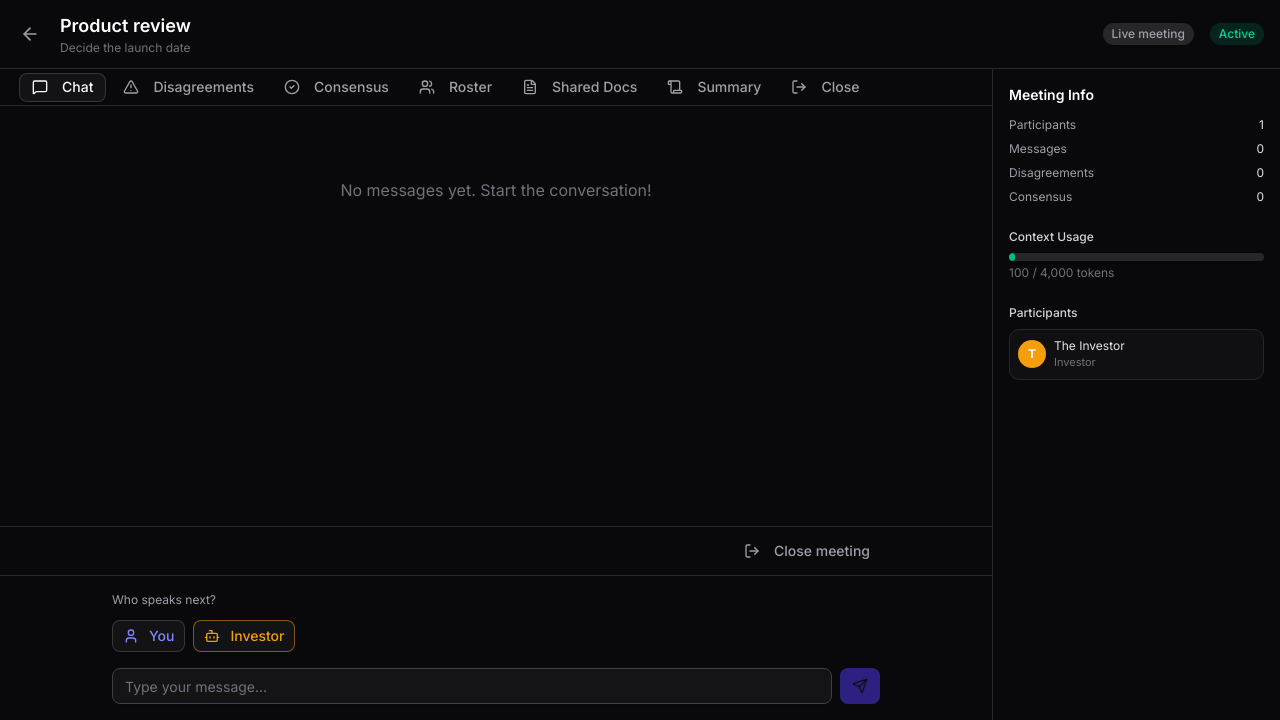
Test: MeetingRoom closing workflow › keeps a rejected close visible while returning the room to active work
This screenshot has width=1280, height=720.
expect the field with placeholder "Type your message..." is shown: met, box [112,668,832,704]
Click the button "Close meeting" at (807, 551), box [734,535,880,567]
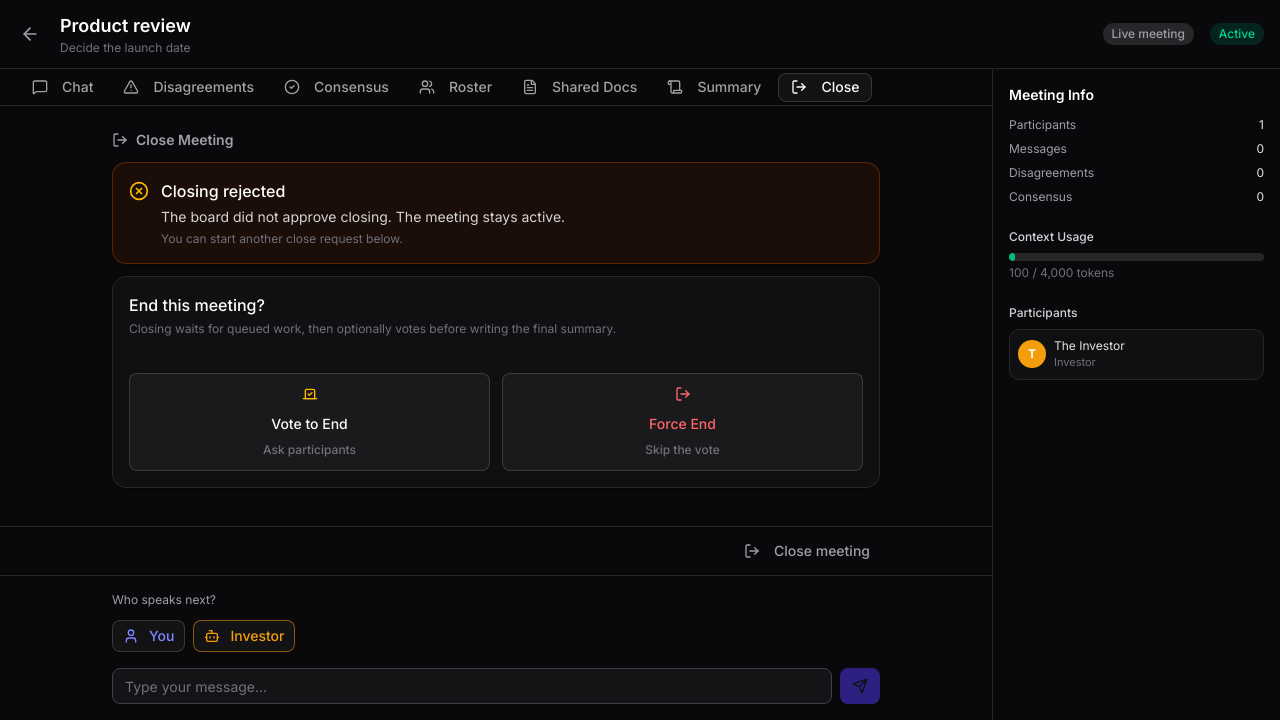
expect the heading "Closing rejected" is shown: met, box [161,181,285,201]
expect the text "The board did not approve closing. The meeting stays active." is shown: met, box [161,208,565,225]
expect the text "You can start another close request below." is shown: met, box [161,231,403,246]
